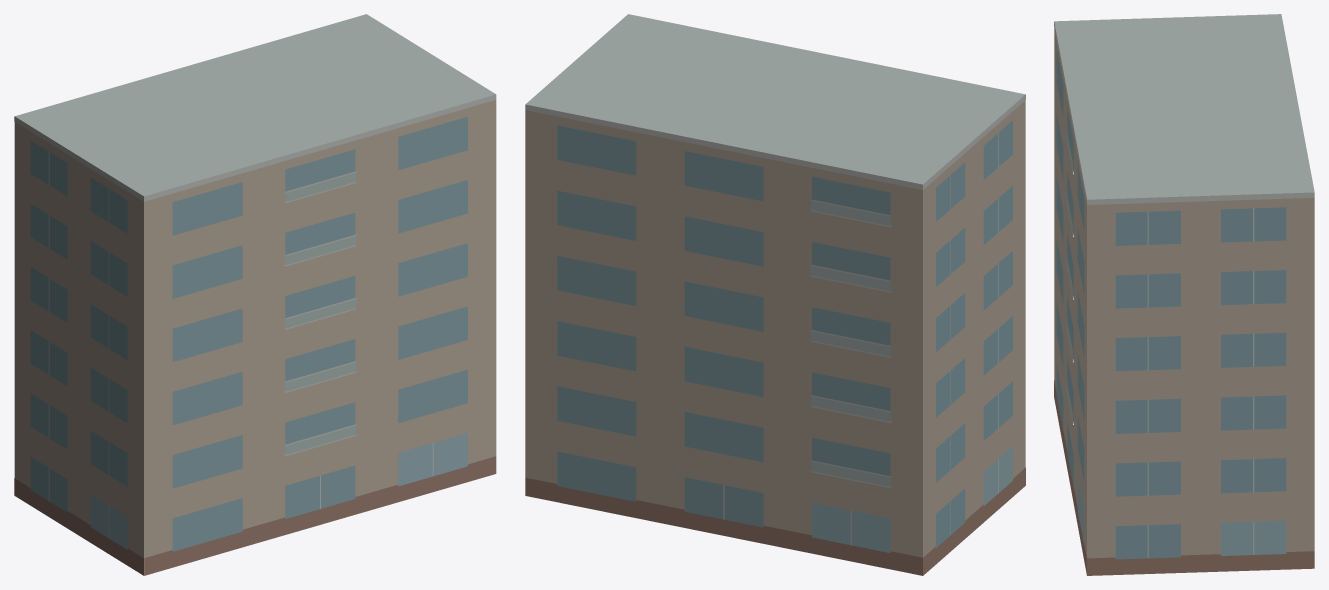
Rendered from survey-upis-32757647.glb.
3 renders of one model, left to right at view 1: azimuth 30°, elevation 25°; view 2: azimuth 150°, elevation 25°; view 3: azimuth 270°, elevation 25°, orthographic. The views are drawn at different scales.
Parts seen in each view (by area): view 1: survey-upis-32757647.tmp; view 2: survey-upis-32757647.tmp; view 3: survey-upis-32757647.tmp.
Boxes of the visible parts, bbox=[...] form: survey-upis-32757647.tmp: bbox=[14, 14, 496, 575]; survey-upis-32757647.tmp: bbox=[525, 14, 1025, 575]; survey-upis-32757647.tmp: bbox=[1054, 14, 1314, 575].
Bounding box in the file's own units: 18.33 × 17.3 × 10.87.
